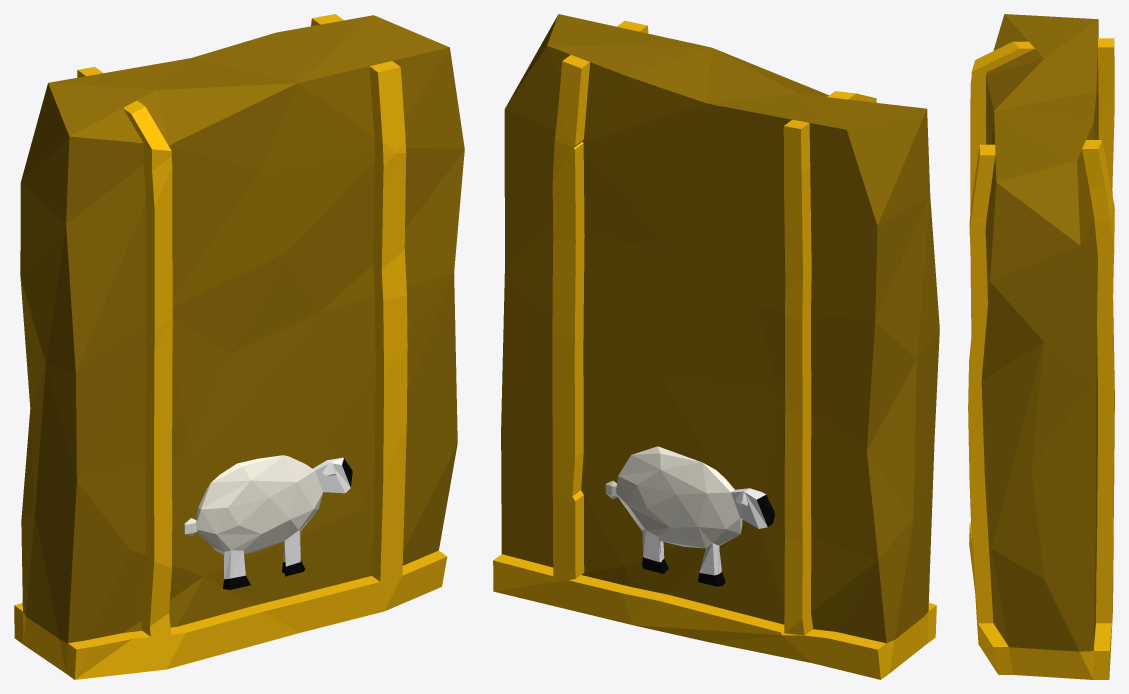
File: stm_prop_DoorWithNoNumber.fbx
3 views of the same model, side by side, from view 1: azimuth 30°, elevation 25°; view 2: azimuth 150°, elevation 25°; view 3: azimuth 270°, elevation 25° (orthographic). The views are drawn at different scales.
Visible parts, largest first — view 1: Cube, sheep; view 2: Cube, sheep_1; view 3: Cube.
Part boxes in pixels (x1=…): Cube: x1=14, y1=14, x2=464, y2=679; sheep: x1=184, y1=455, x2=352, y2=589; Cube: x1=493, y1=14, x2=939, y2=679; sheep_1: x1=605, y1=446, x2=774, y2=586; Cube: x1=968, y1=14, x2=1114, y2=679.
Bounding box in the file's own units: 204 × 267 × 70.54.
